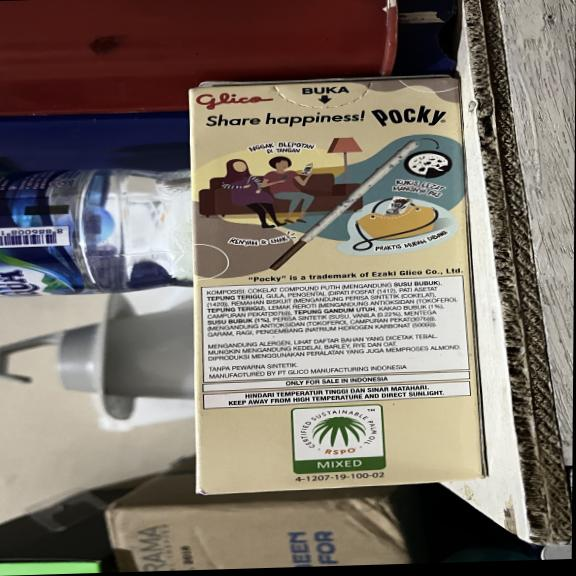Kertas: (196, 72, 488, 494)
